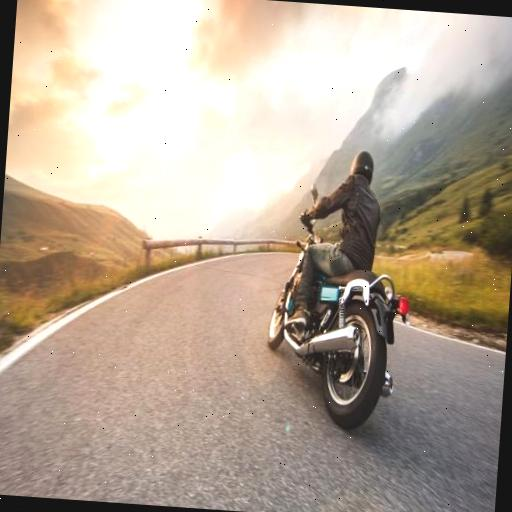helmet: (274, 136, 392, 404)
